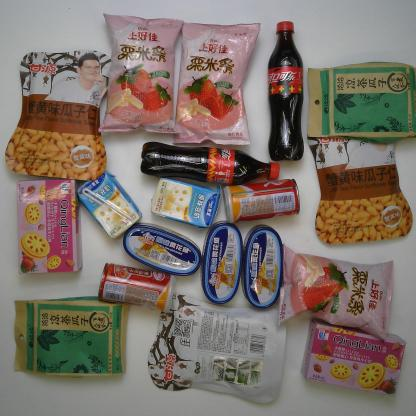Canned Food: (122, 222, 202, 277), (97, 262, 176, 312), (222, 177, 302, 224), (241, 225, 284, 310), (201, 220, 243, 306)
Dessert: (300, 317, 406, 396), (14, 176, 84, 276)
Dried Food: (13, 296, 130, 381), (306, 61, 416, 145)
Dried Fruit: (145, 289, 288, 405), (3, 50, 113, 183), (306, 109, 413, 245)
Drink: (139, 140, 281, 187), (266, 20, 305, 162)
Milk: (76, 168, 142, 241), (150, 178, 220, 230)
Puffed Food: (276, 243, 395, 342), (172, 21, 261, 148), (94, 12, 185, 136)
